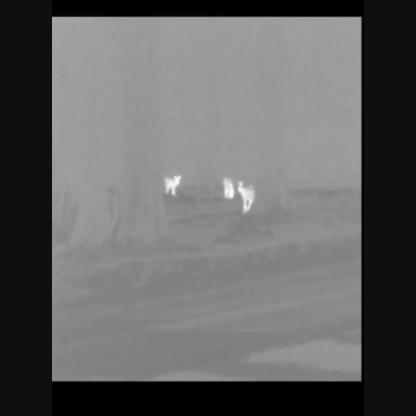rehkitze: (239, 180, 255, 215), (163, 174, 184, 195), (222, 176, 237, 201)
